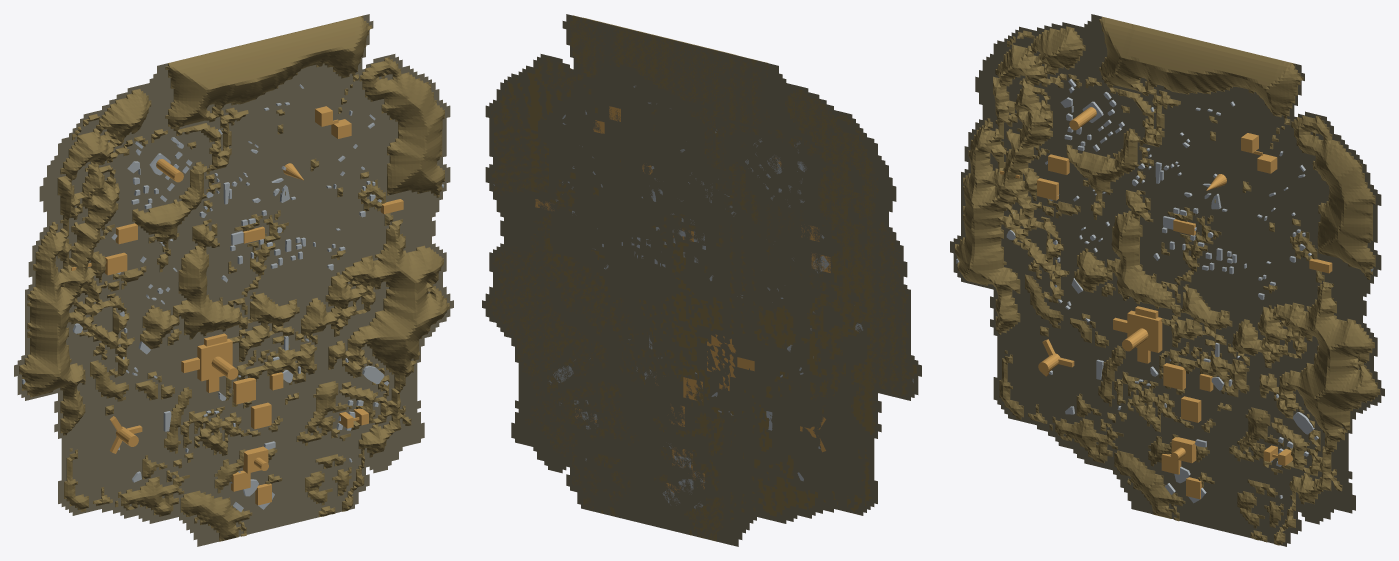
Rendered from world-map.obj.
The picture shows the model from 3 angles, left to right: view 1: azimuth 30°, elevation 25°; view 2: azimuth 150°, elevation 25°; view 3: azimuth 330°, elevation 25°; orthographic projection.
Visible parts, largest first — view 1: terrain, rock_candidate_001, rock_candidate_027, rock_candidate_000, rock_candidate_018, rock_candidate_003, rock_candidate_059, rock_candidate_036, rock_candidate_043, rock_candidate_057, rock_candidate_045, manual_envelope_harvester_core (+8 smaller); view 2: terrain, rock_candidate_001, rock_candidate_027, rock_candidate_000, rock_candidate_003, rock_candidate_018, rock_candidate_057, rock_candidate_059, rock_candidate_043, rock_candidate_036, rock_candidate_045; view 3: terrain, rock_candidate_001, rock_candidate_027, rock_candidate_000, rock_candidate_018, rock_candidate_003, rock_candidate_036, rock_candidate_059, rock_candidate_043, rock_candidate_057, rock_candidate_045, manual_envelope_harvester_core (+6 smaller).
Boxes of the visible parts, left/top/right/bottom form: terrain: left=14, top=14, right=453, bottom=546; rock_candidate_001: left=19, top=89, right=151, bottom=435; rock_candidate_027: left=295, top=219, right=449, bottom=511; rock_candidate_000: left=132, top=15, right=371, bottom=272; rock_candidate_018: left=140, top=219, right=299, bottom=362; rock_candidate_003: left=359, top=57, right=444, bottom=197; rock_candidate_059: left=180, top=490, right=252, bottom=541; rock_candidate_036: left=226, top=342, right=316, bottom=400; rock_candidate_043: left=180, top=406, right=260, bottom=455; rock_candidate_057: left=118, top=474, right=189, bottom=516; rock_candidate_045: left=296, top=381, right=351, bottom=445; manual_envelope_harvester_core: left=197, top=338, right=232, bottom=381; terrain: left=482, top=14, right=921, bottom=546; rock_candidate_001: left=785, top=89, right=916, bottom=434; rock_candidate_027: left=486, top=221, right=638, bottom=510; rock_candidate_000: left=568, top=15, right=803, bottom=260; rock_candidate_003: left=491, top=57, right=576, bottom=195; rock_candidate_018: left=639, top=224, right=795, bottom=361; rock_candidate_057: left=752, top=476, right=817, bottom=516; rock_candidate_059: left=684, top=492, right=755, bottom=541; rock_candidate_043: left=676, top=407, right=754, bottom=455; rock_candidate_036: left=619, top=343, right=709, bottom=399; rock_candidate_045: left=584, top=381, right=638, bottom=445; terrain: left=950, top=14, right=1384, bottom=546; rock_candidate_001: left=954, top=26, right=1085, bottom=334; rock_candidate_027: left=1227, top=281, right=1380, bottom=545; rock_candidate_000: left=1066, top=16, right=1303, bottom=219; rock_candidate_018: left=1074, top=190, right=1232, bottom=347; rock_candidate_003: left=1291, top=115, right=1375, bottom=279; rock_candidate_036: left=1159, top=342, right=1249, bottom=397; rock_candidate_059: left=1114, top=450, right=1185, bottom=518; rock_candidate_043: left=1114, top=371, right=1193, bottom=432; rock_candidate_057: left=1052, top=416, right=1123, bottom=463; rock_candidate_045: left=1229, top=407, right=1283, bottom=461; manual_envelope_harvester_core: left=1127, top=310, right=1162, bottom=352.
Bounding box in the file's own units: 1920 × 2048 × 150.
